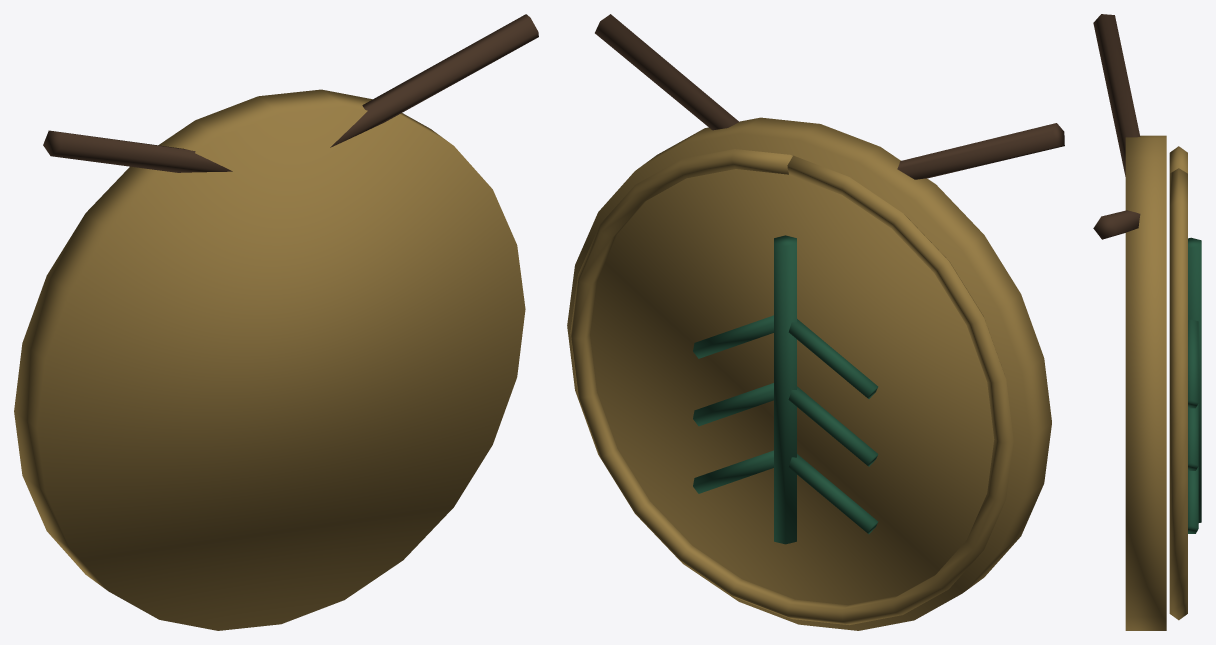
The model's file is warden_insignia.glb.
The picture shows the model from 3 angles, left to right: view 1: azimuth 30°, elevation 25°; view 2: azimuth 150°, elevation 25°; view 3: azimuth 270°, elevation 25°; orthographic projection. The views are drawn at different scales.
Parts seen in each view (by area): view 1: Clean_warden_insignia; view 2: Clean_warden_insignia; view 3: Clean_warden_insignia.
Part boxes in pixels (x1=…): Clean_warden_insignia: x1=14, y1=14, x2=538, y2=630; Clean_warden_insignia: x1=567, y1=14, x2=1064, y2=630; Clean_warden_insignia: x1=1093, y1=14, x2=1201, y2=630.
Size of the model in its own units: 0.122 by 0.1335 by 0.0266.
